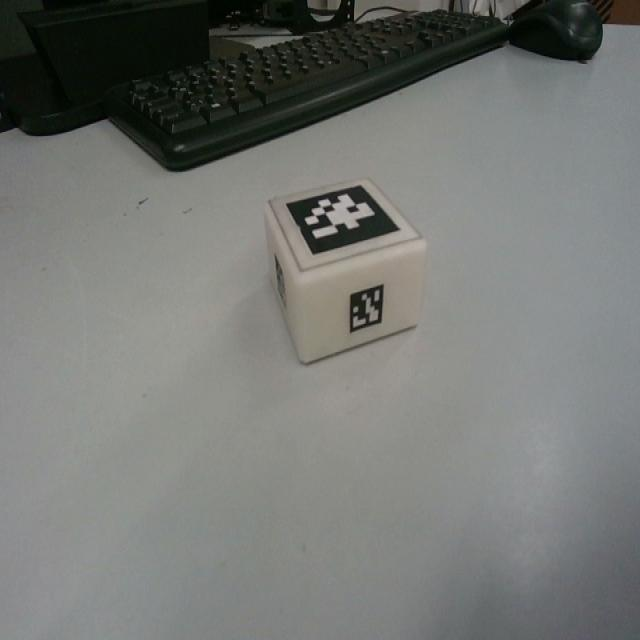Cube: (262, 176, 427, 364)
